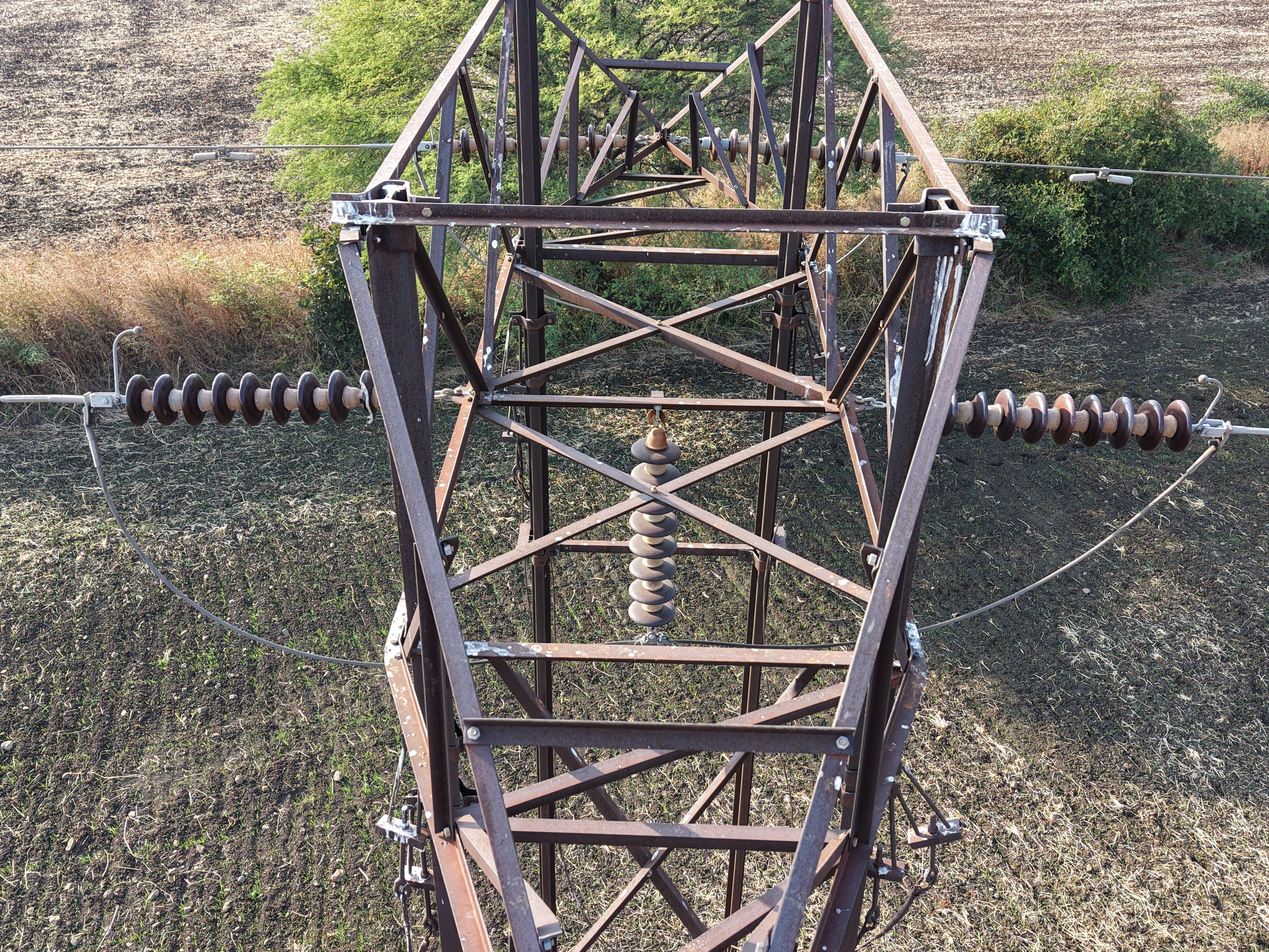broken_insulator: (352, 368, 380, 426), (963, 386, 991, 441)
